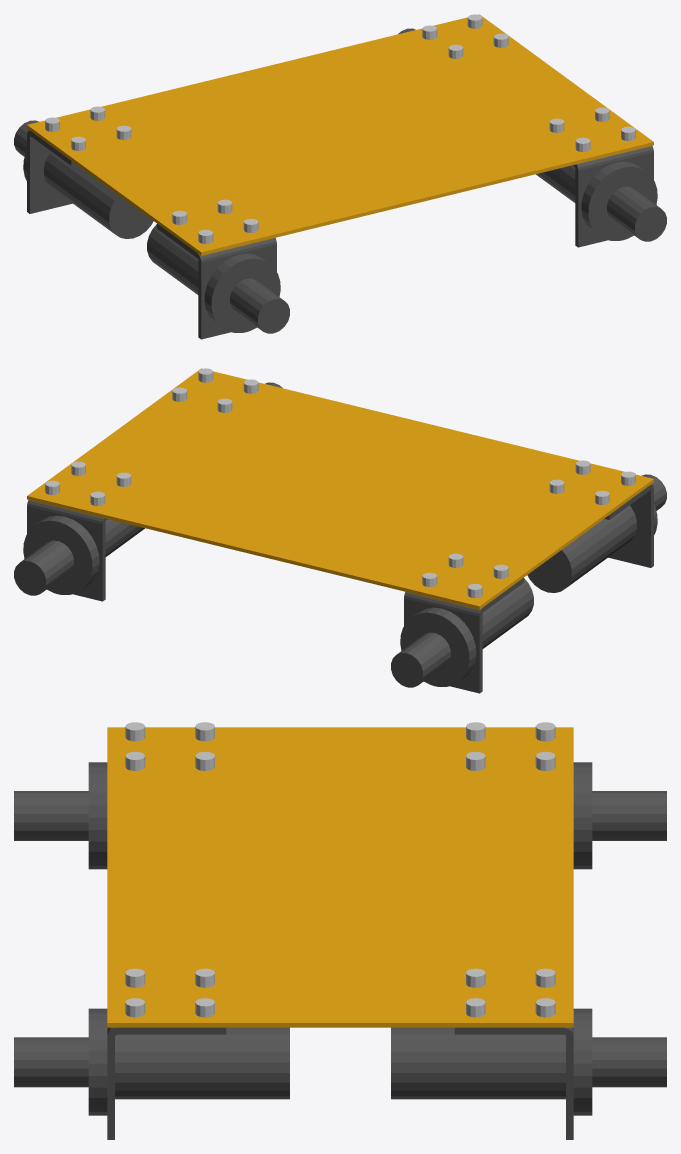
The picture shows the model from 3 angles, top to bottom: view 1: azimuth 30°, elevation 25°; view 2: azimuth 150°, elevation 25°; view 3: azimuth 270°, elevation 25°; orthographic projection. The views are drawn at different scales.
Visible parts, largest first — view 1: base; view 2: base; view 3: base.
Boxes of the visible parts, x1,y1,x2,y2 form: base: [14, 14, 666, 339]; base: [14, 368, 666, 693]; base: [14, 722, 666, 1139].
Bounding box in the file's own units: 0.3 × 0.28 × 0.0604.
